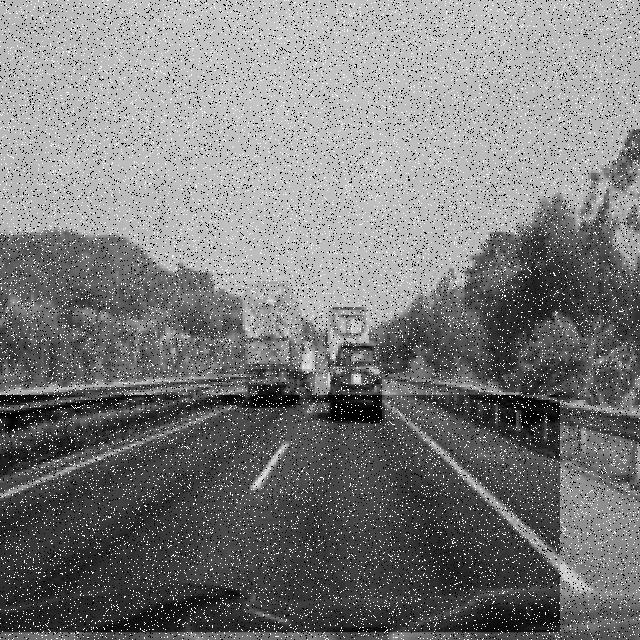clear-road: (0, 396, 560, 613)
